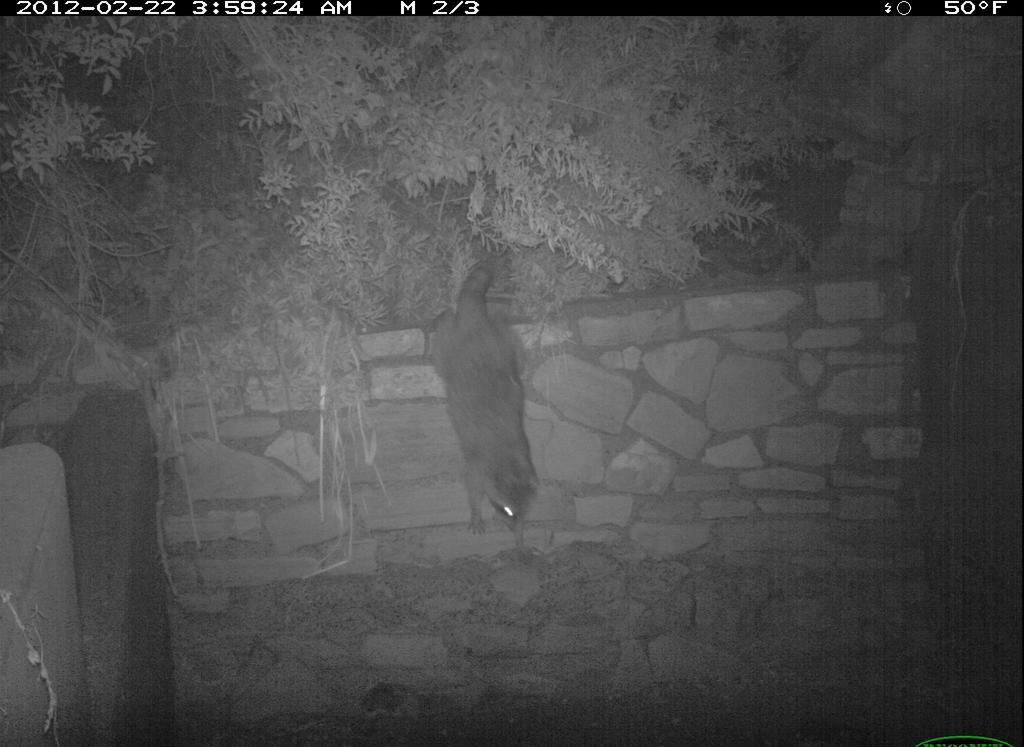raccoon: (410, 250, 562, 550)
